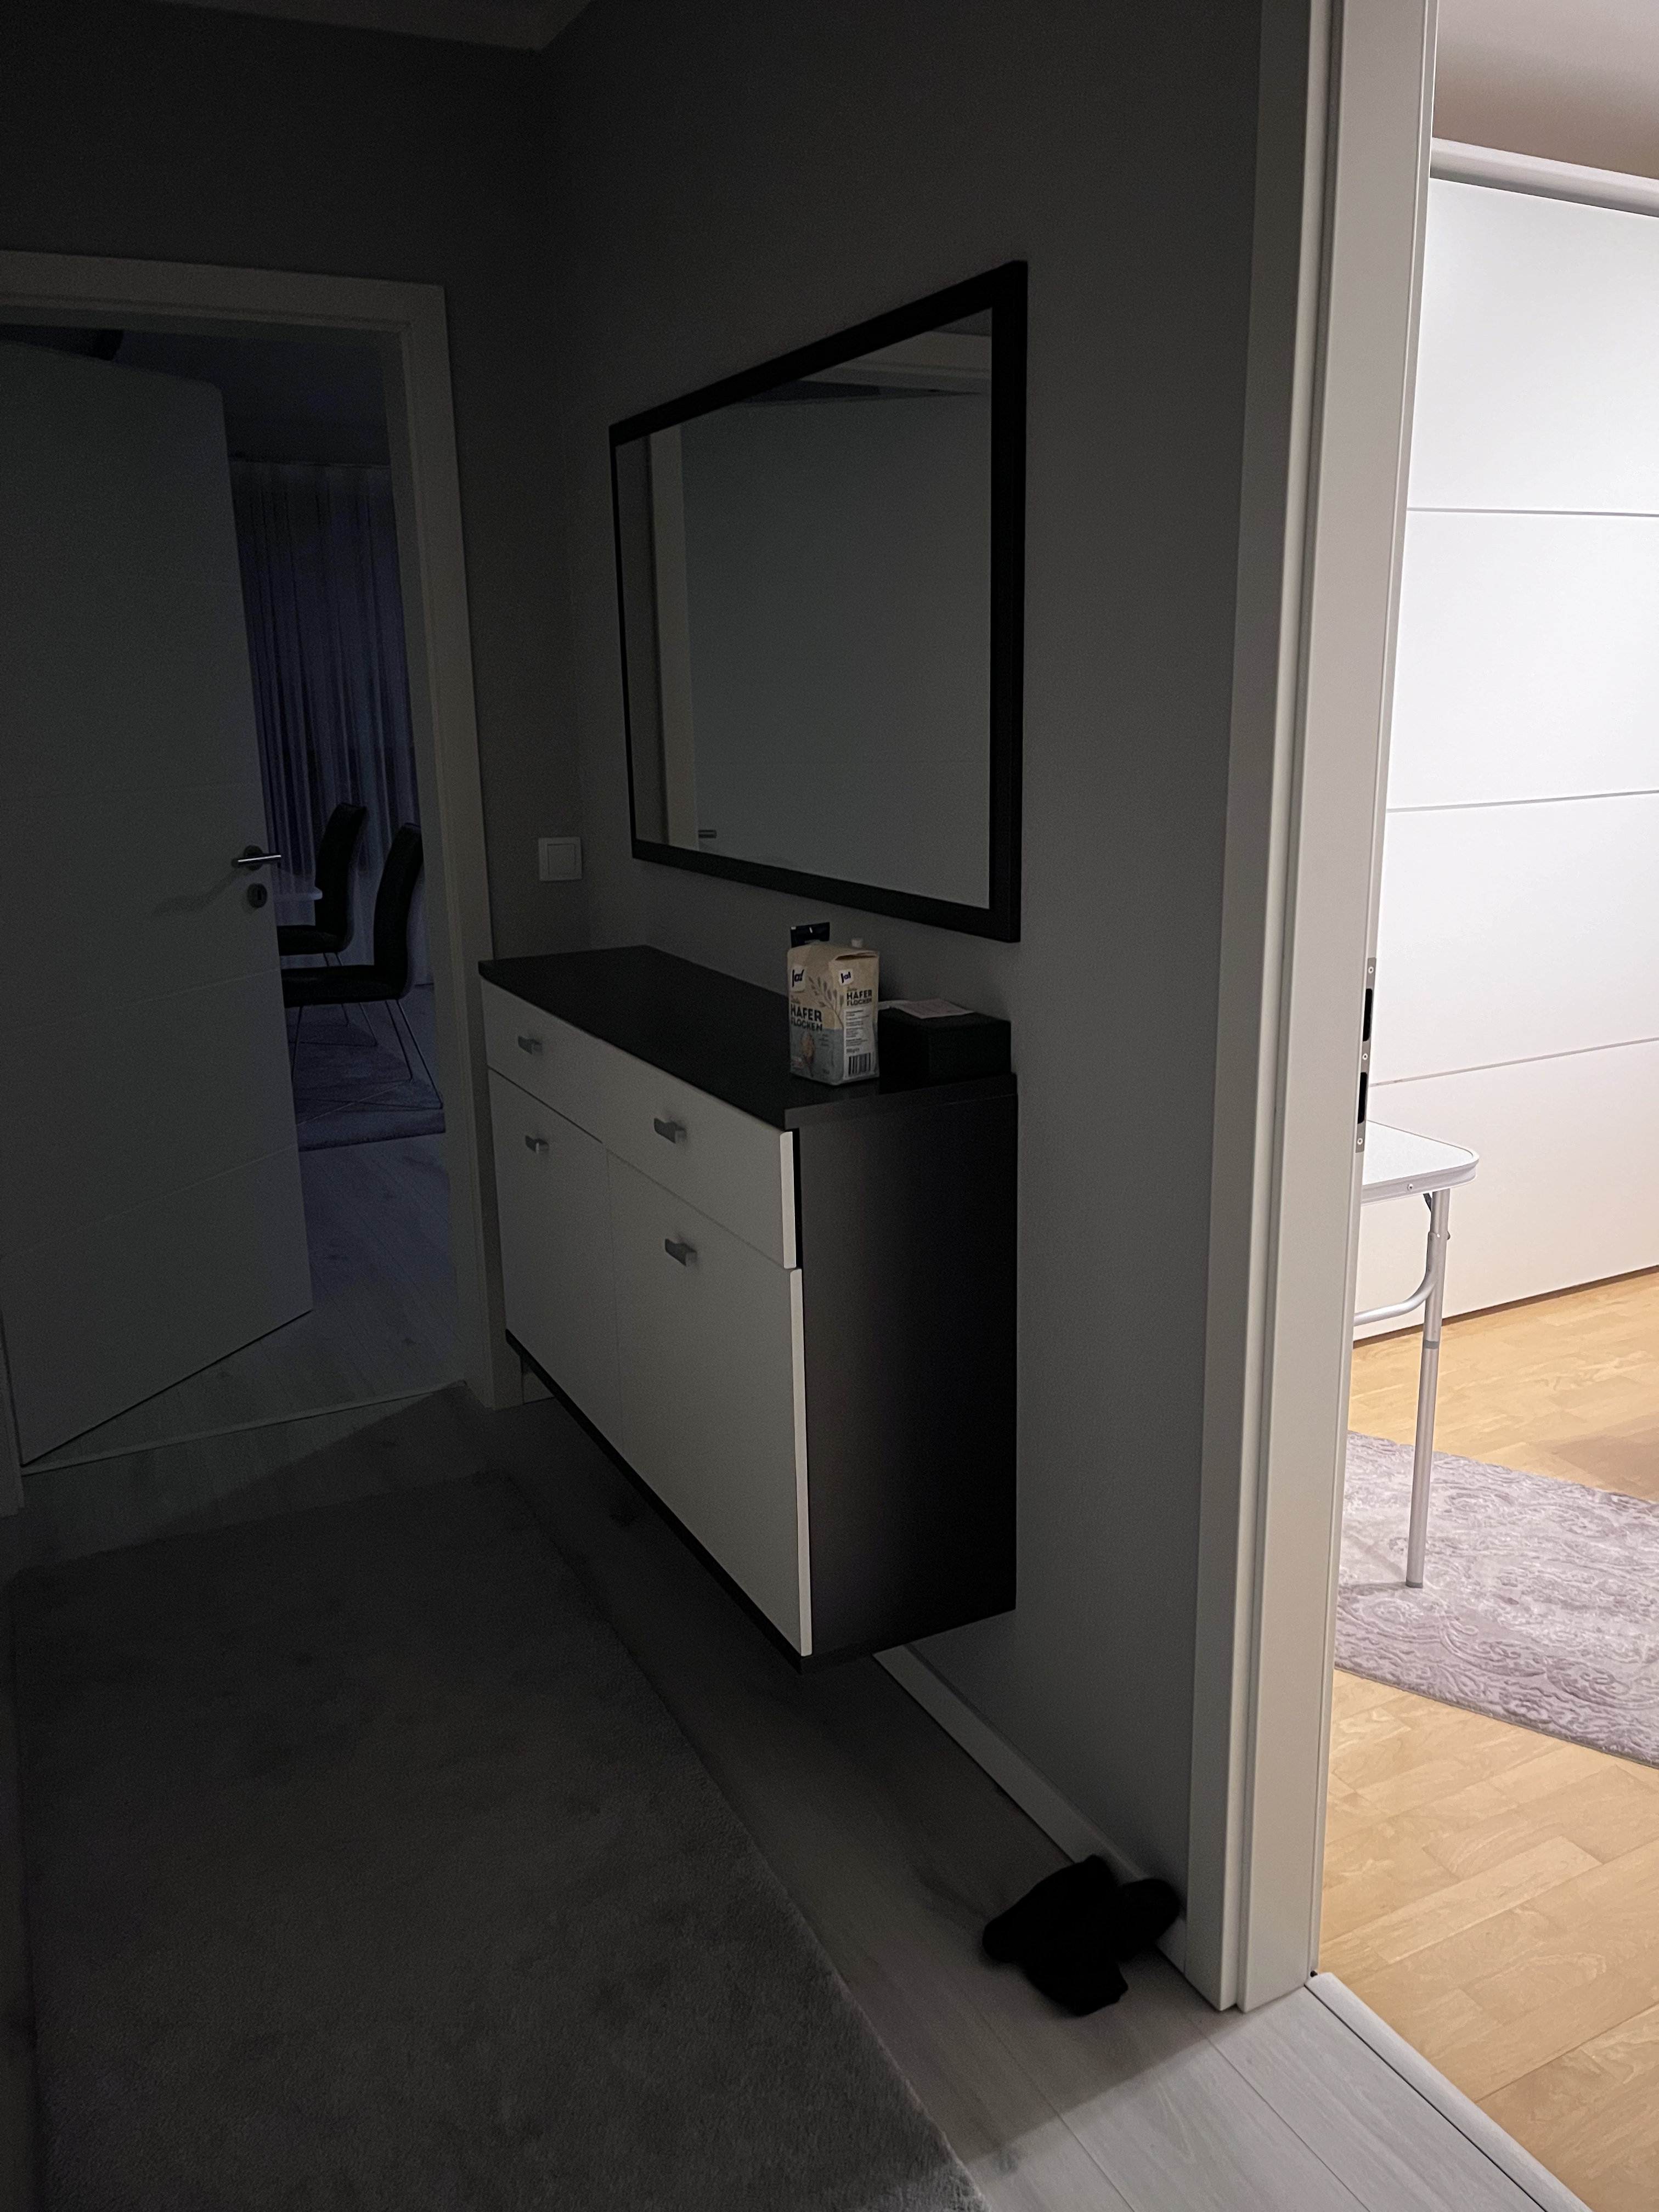haferflocken_ja: (784, 937, 878, 1089)
